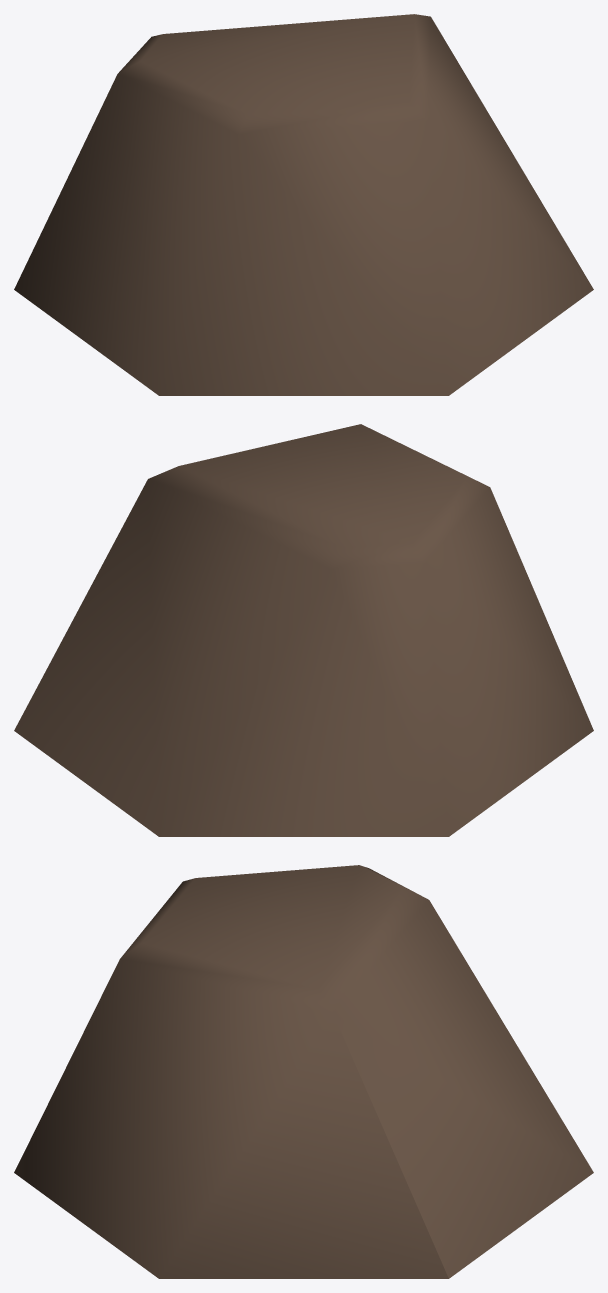
The model's file is Rock-5.fbx.
3 renders of one model, top to bottom at view 1: azimuth 30°, elevation 25°; view 2: azimuth 150°, elevation 25°; view 3: azimuth 270°, elevation 25°, orthographic.
Parts seen in each view (by area): view 1: Cone.048; view 2: Cone.048; view 3: Cone.048.
Boxes of the visible parts, box(x1,y1,x2,y2) form: Cone.048: box(14, 14, 593, 395); Cone.048: box(14, 424, 593, 836); Cone.048: box(14, 865, 593, 1278).
Size of the model in its own units: 34.93 by 18.53 by 40.34.
